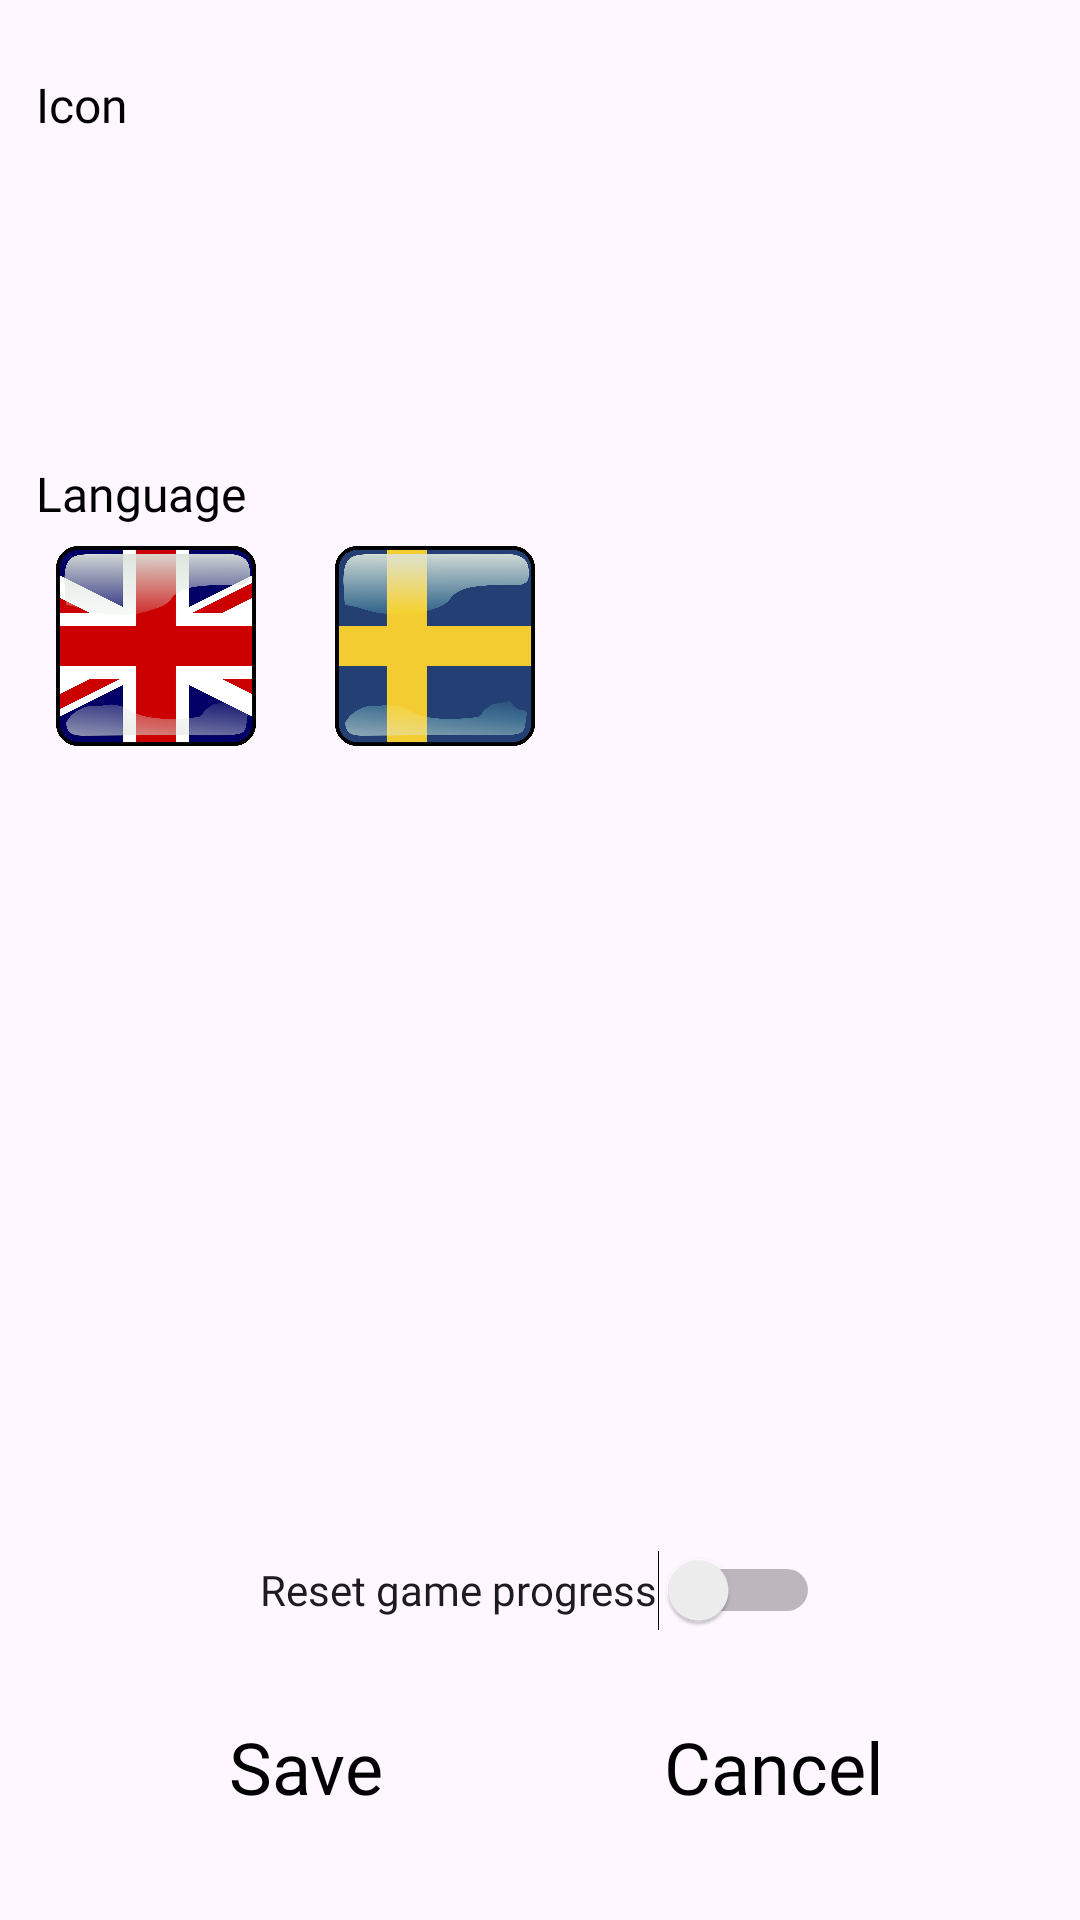

Where icons sit on this 1080x1920 app screen, as (x1, y1, x2, y2):
flag brittish: (56, 546, 256, 746)
flag swedish: (335, 546, 535, 746)
